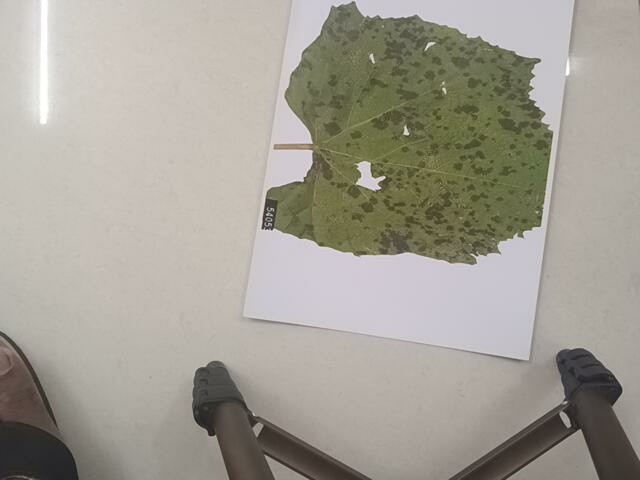Grape_Blight_Leaf: (267, 3, 559, 268)
